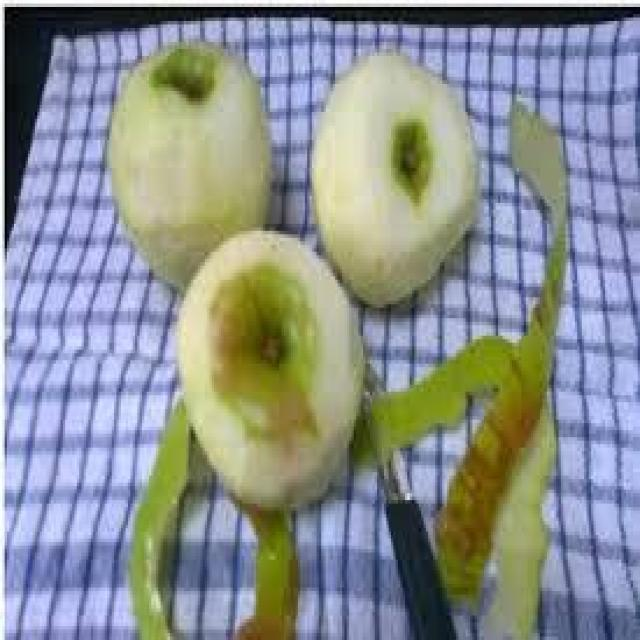Rotten: (175, 226, 365, 512), (312, 56, 478, 292), (102, 47, 273, 255)
